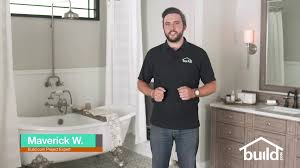bathub: (17, 102, 147, 168)
